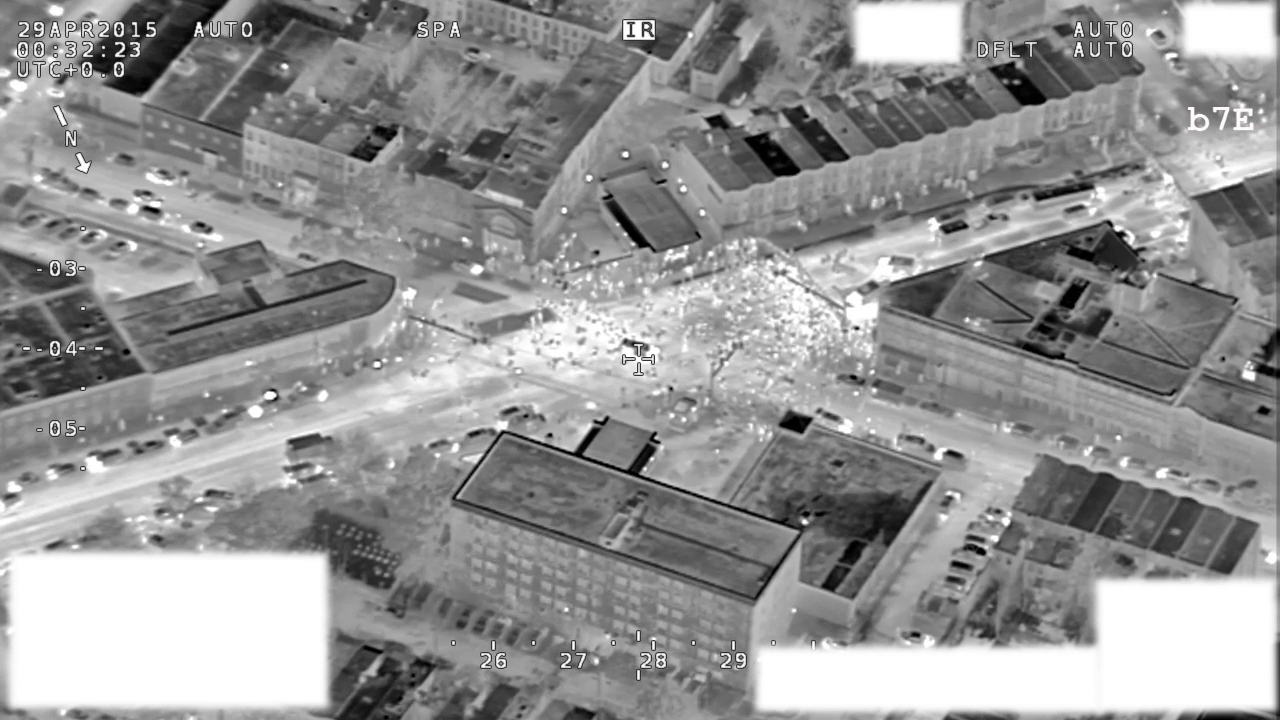vehicle: (1030, 178, 1101, 213), (283, 430, 336, 466), (895, 431, 941, 460), (813, 404, 854, 436), (842, 278, 880, 312), (37, 167, 78, 196), (999, 416, 1041, 444), (664, 397, 697, 431), (869, 378, 909, 406), (919, 397, 959, 425), (409, 580, 439, 617), (39, 460, 80, 487), (80, 449, 122, 475), (1047, 431, 1087, 458), (937, 217, 973, 245), (897, 624, 937, 648), (937, 445, 971, 473), (7, 468, 42, 495), (875, 253, 917, 275), (463, 423, 501, 447), (143, 163, 178, 189), (101, 238, 138, 262), (209, 410, 247, 433), (1155, 463, 1191, 487), (172, 428, 206, 453), (73, 228, 108, 252), (498, 401, 540, 421), (969, 517, 1004, 541), (929, 205, 965, 228), (468, 609, 493, 642), (618, 336, 652, 360), (1082, 441, 1116, 465), (935, 489, 963, 518), (1060, 201, 1098, 222), (54, 223, 88, 246), (976, 211, 1013, 232), (1118, 453, 1153, 475), (107, 194, 139, 218), (429, 437, 462, 460), (984, 192, 1014, 217), (17, 210, 49, 233), (833, 367, 868, 388), (954, 542, 989, 563), (938, 572, 972, 593), (137, 203, 170, 224), (1194, 474, 1224, 497), (454, 603, 476, 634), (132, 440, 165, 460), (40, 217, 71, 238), (944, 557, 978, 576), (962, 530, 996, 549), (1164, 51, 1187, 79), (487, 618, 509, 647), (435, 594, 456, 623), (505, 624, 527, 651), (1146, 25, 1173, 47), (55, 69, 75, 98), (984, 502, 1011, 523), (109, 151, 138, 168), (295, 249, 324, 266), (187, 220, 213, 238), (133, 188, 164, 201), (81, 186, 105, 202)
